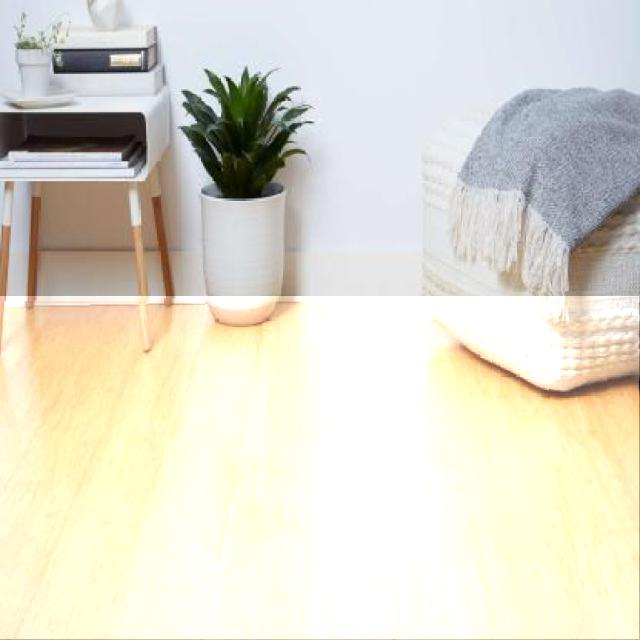floor: (0, 296, 639, 640)
